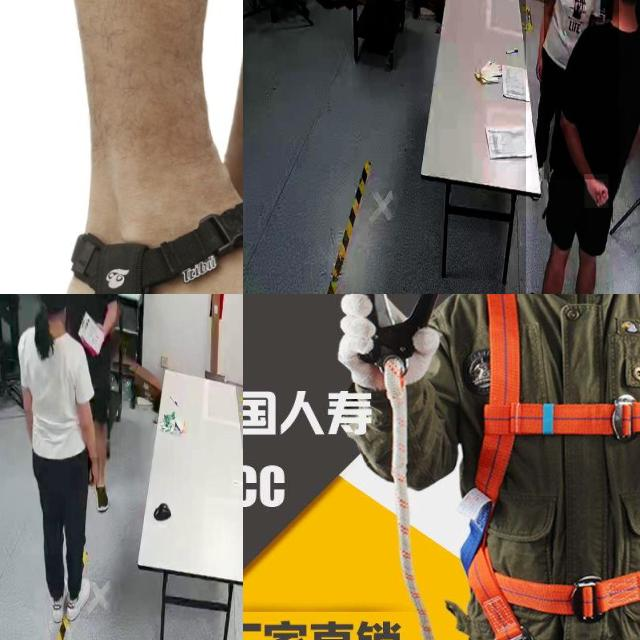Harness: (460, 294, 640, 640)
Sandals: (40, 162, 243, 294)
hand_noglove: (585, 174, 609, 209), (532, 52, 544, 84), (88, 458, 100, 490), (94, 319, 106, 343)
person: (525, 0, 640, 294), (15, 294, 104, 618), (544, 0, 619, 179), (70, 294, 122, 366)
shoes: (63, 573, 93, 625), (91, 469, 112, 522), (49, 575, 68, 626)
